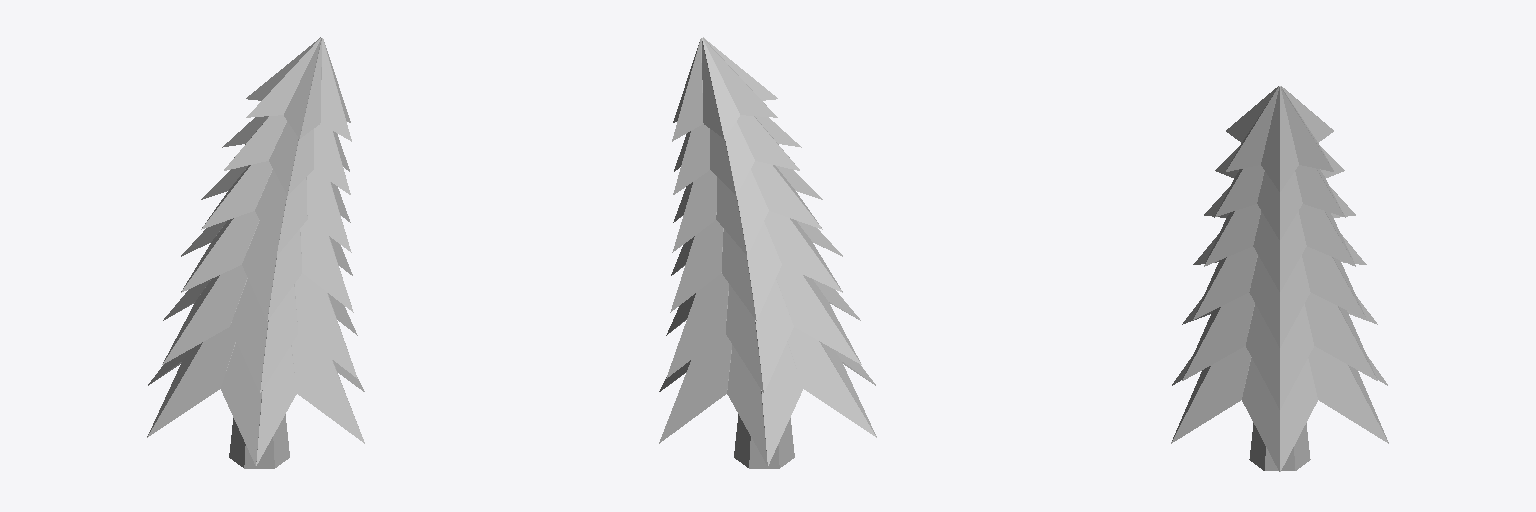
Rendered from SPW_Natures_Tree_Palm_01.obj.
The picture shows the model from 3 angles: view 1: azimuth 30°, elevation 25°; view 2: azimuth 150°, elevation 25°; view 3: azimuth 270°, elevation 25°; orthographic projection.
Visible parts, largest first — view 1: SPW_Natures_Tree_Fir_02; view 2: SPW_Natures_Tree_Fir_02; view 3: SPW_Natures_Tree_Fir_02.
Boxes of the visible parts, <box> form: SPW_Natures_Tree_Fir_02: <box>147,37,364,468</box>; SPW_Natures_Tree_Fir_02: <box>659,37,876,468</box>; SPW_Natures_Tree_Fir_02: <box>1171,86,1388,471</box>.
Size of the model in its own units: 156 by 276 by 135.